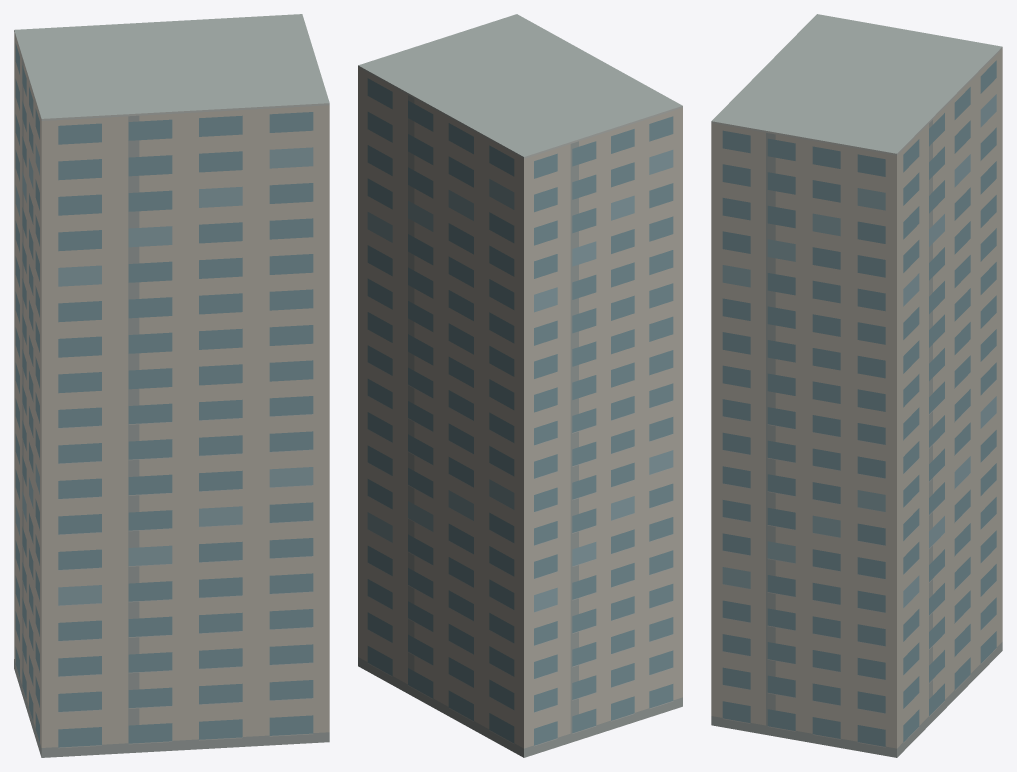
File: residential-8c6d7d87-8769-4441-a37c-1d83d7470494.glb
3 views of the same model, side by side, from view 1: azimuth 30°, elevation 25°; view 2: azimuth 150°, elevation 25°; view 3: azimuth 270°, elevation 25° (orthographic). The views are drawn at different scales.
Parts seen in each view (by area): view 1: residential-8c6d7d87-8769-4441-a37c-1d83d7470494.tmp; view 2: residential-8c6d7d87-8769-4441-a37c-1d83d7470494.tmp; view 3: residential-8c6d7d87-8769-4441-a37c-1d83d7470494.tmp.
Part boxes in pixels (x1,y1,x2,y2): residential-8c6d7d87-8769-4441-a37c-1d83d7470494.tmp: [14, 14, 329, 757]; residential-8c6d7d87-8769-4441-a37c-1d83d7470494.tmp: [358, 14, 682, 757]; residential-8c6d7d87-8769-4441-a37c-1d83d7470494.tmp: [711, 14, 1002, 757].
Bounding box in the file's own units: 37.74 × 76 × 33.22.
